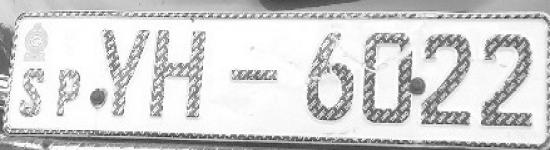-: (292, 28, 359, 125), (224, 64, 284, 90)
0: (359, 27, 417, 128)
2: (477, 28, 536, 133), (418, 28, 476, 133)
H: (152, 25, 208, 126)
P: (49, 66, 85, 122)
S: (16, 67, 50, 122)
Y: (98, 24, 151, 126)
